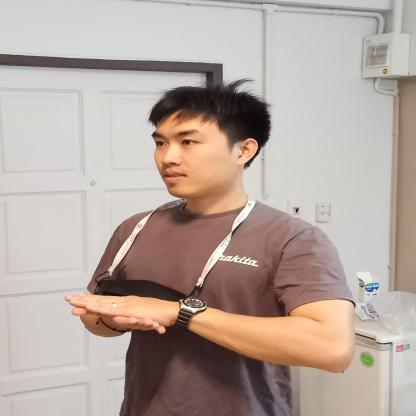Love: (41, 246, 225, 355)
